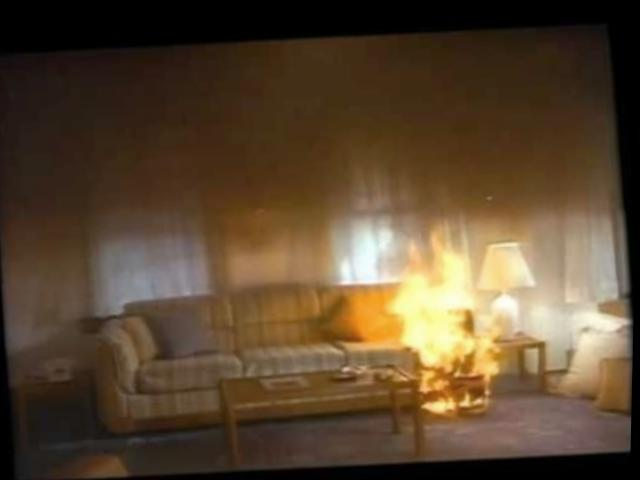fire: (352, 194, 536, 422)
